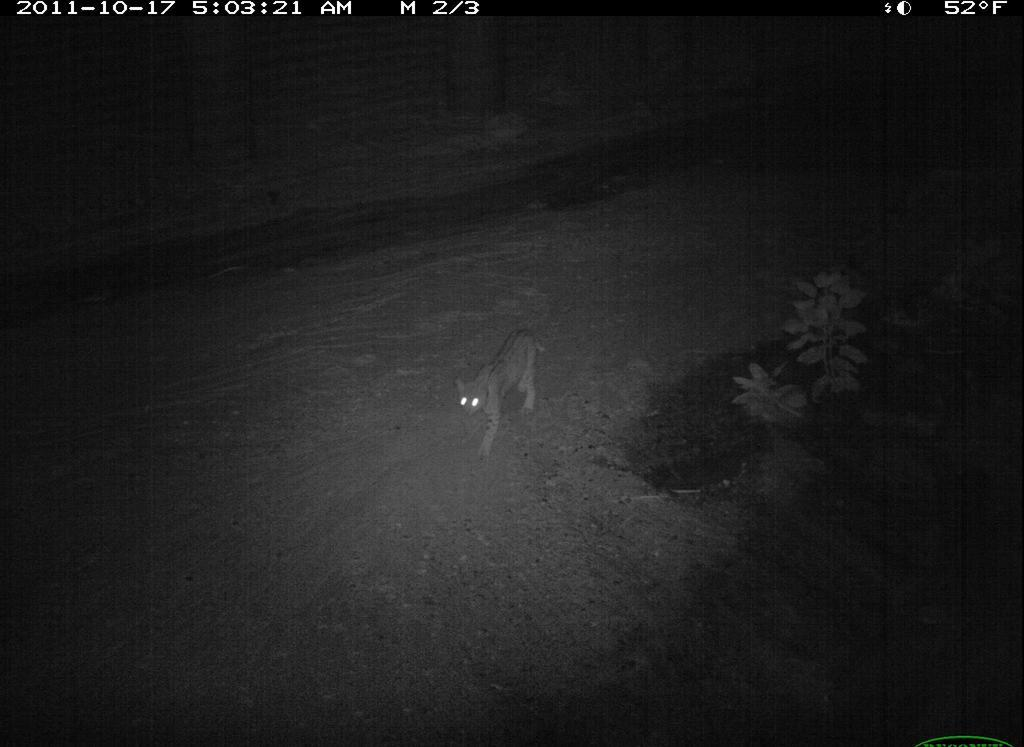bobcat: (451, 319, 564, 461)
